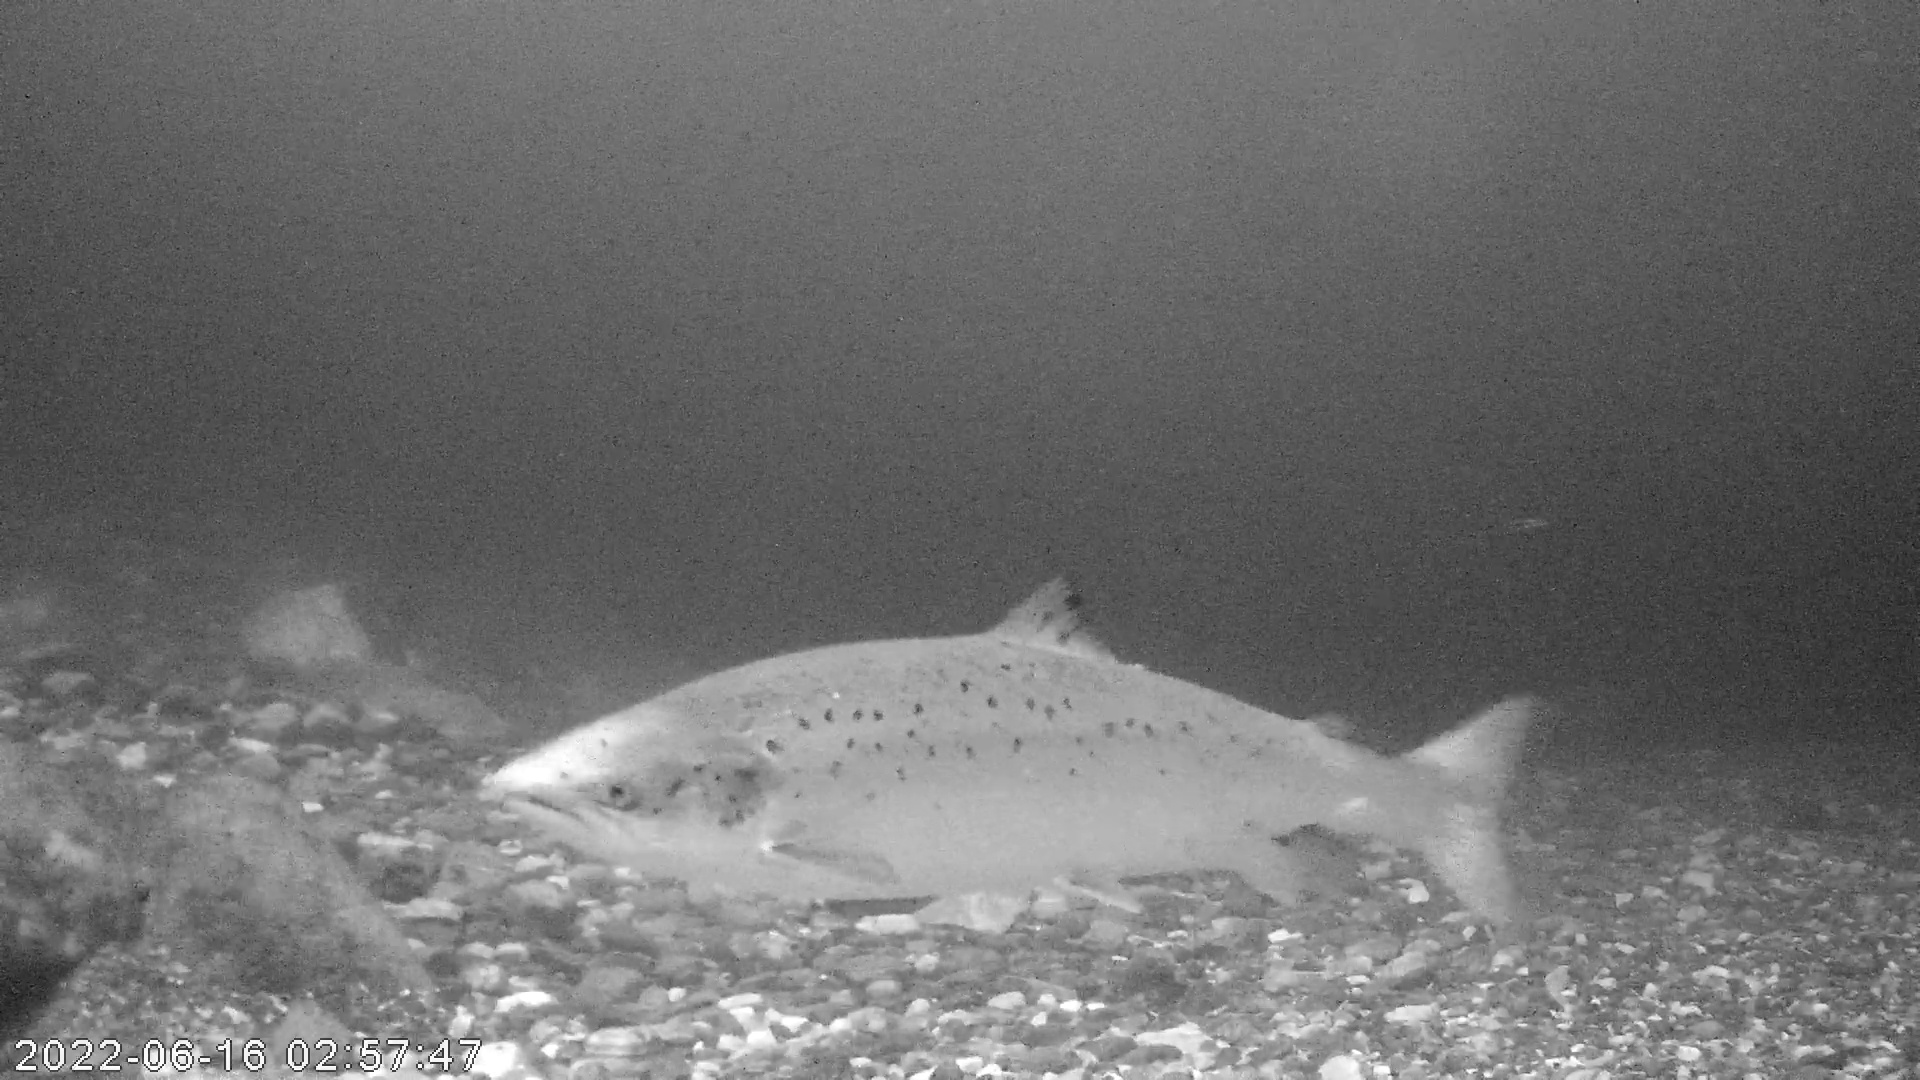salmon: (491, 567, 1536, 931)
